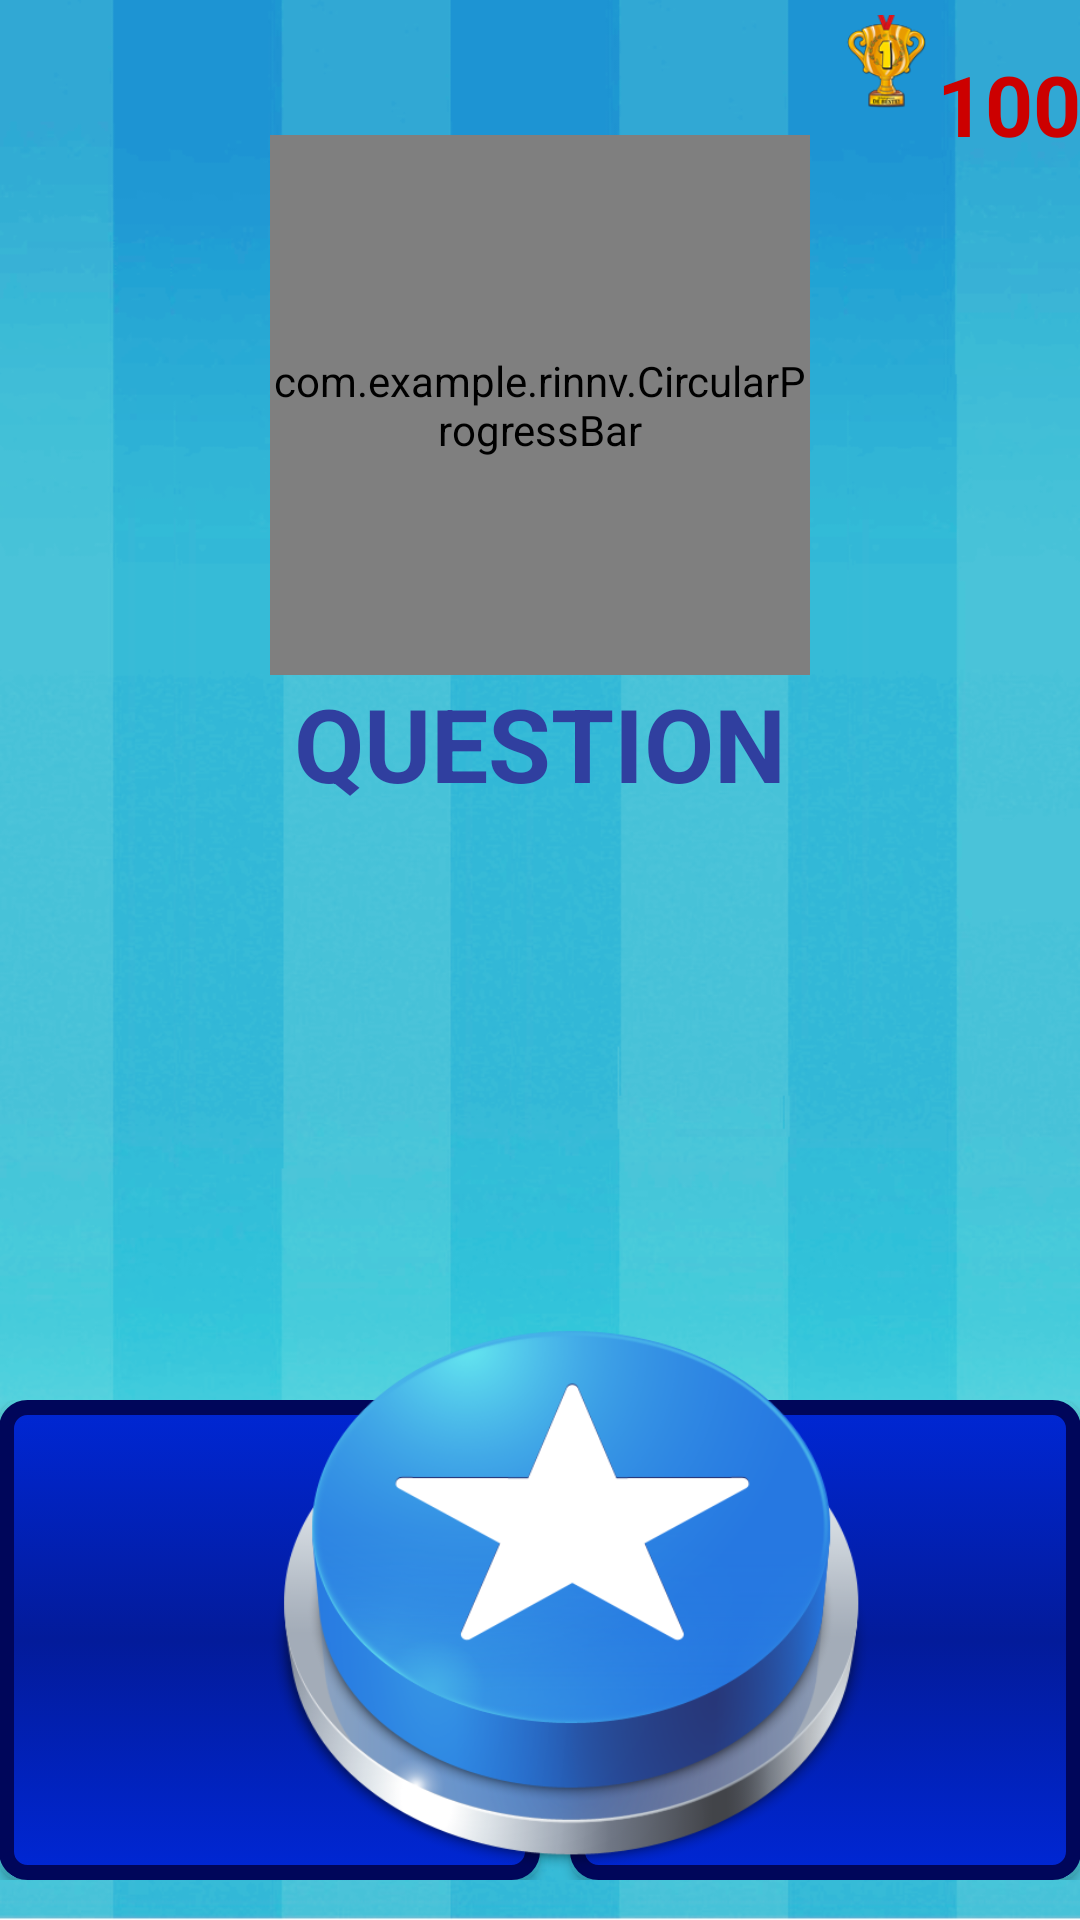

Where icons sit on this 1080px×1920px app screen, as bbox=(x1, y1, x2, y2):
best: bbox=(847, 15, 926, 108)
